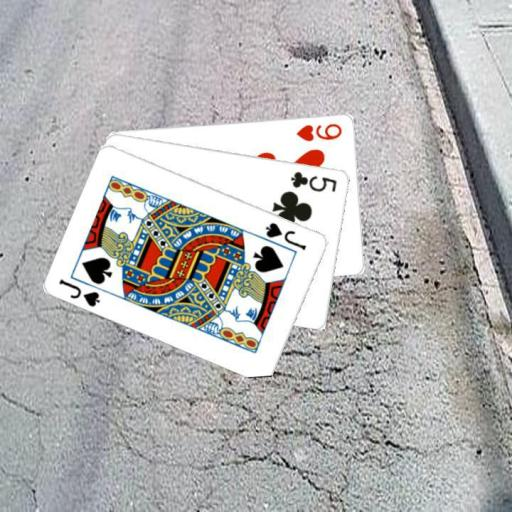5C: (288, 168, 339, 193)
9H: (294, 120, 344, 143)
JS: (56, 275, 102, 309), (262, 219, 308, 252)
